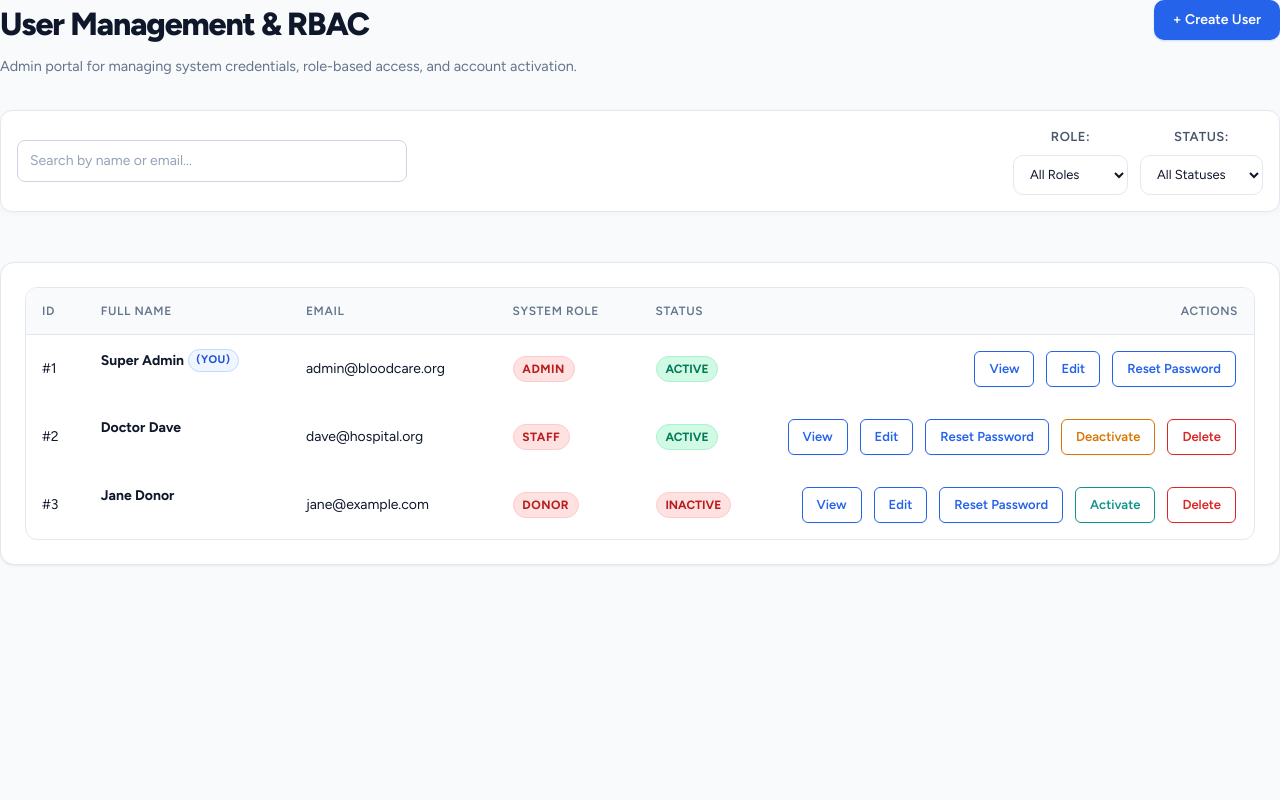
it: Users Page Component › opens and submits Create User form modal
This screenshot has width=1280, height=800.
Click the button with test id "btn-create-user". click: (1217, 20)
box: [1154,0,1279,40]
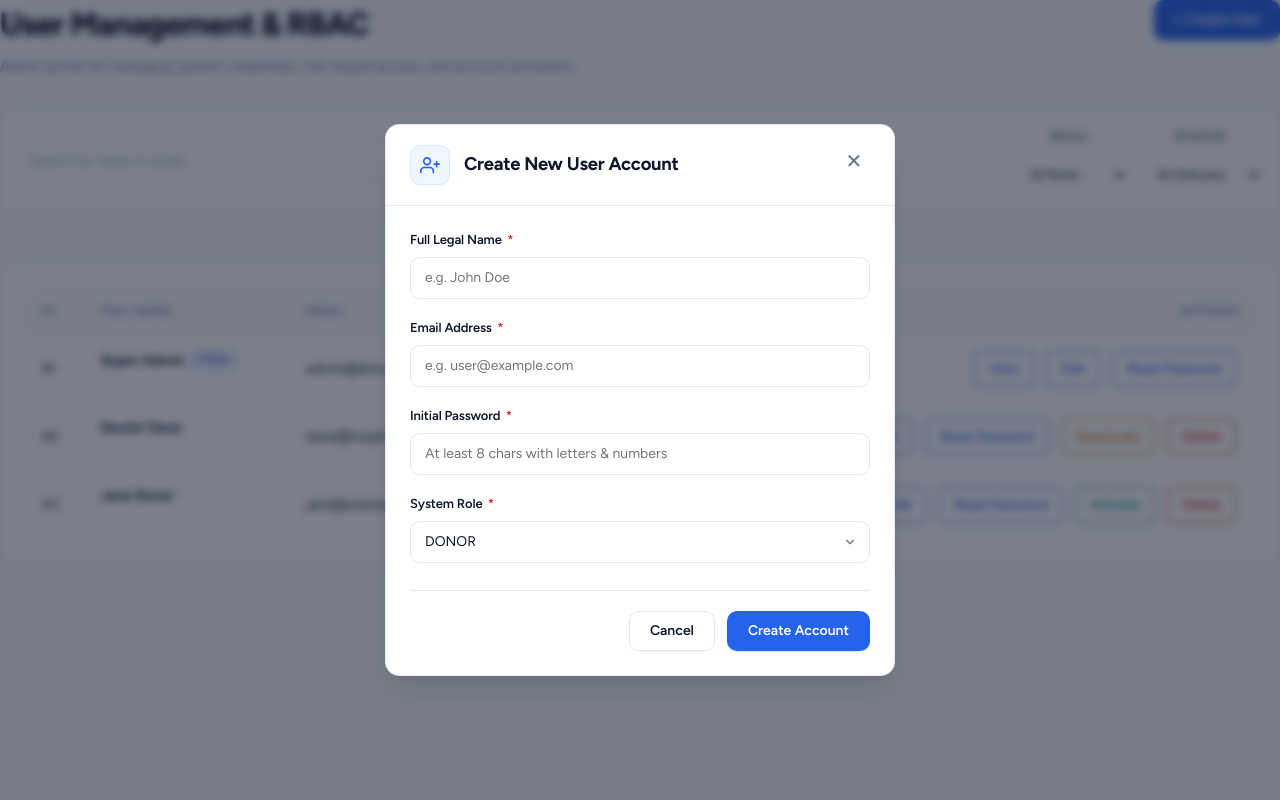
Expected: the dialog with test id "user-form-modal" is shown, [385,124,895,676]
Type "Dr. Sarah Connor" into the field with test id "input-user-fullname". click: (640, 278)
box: [410,257,870,299]
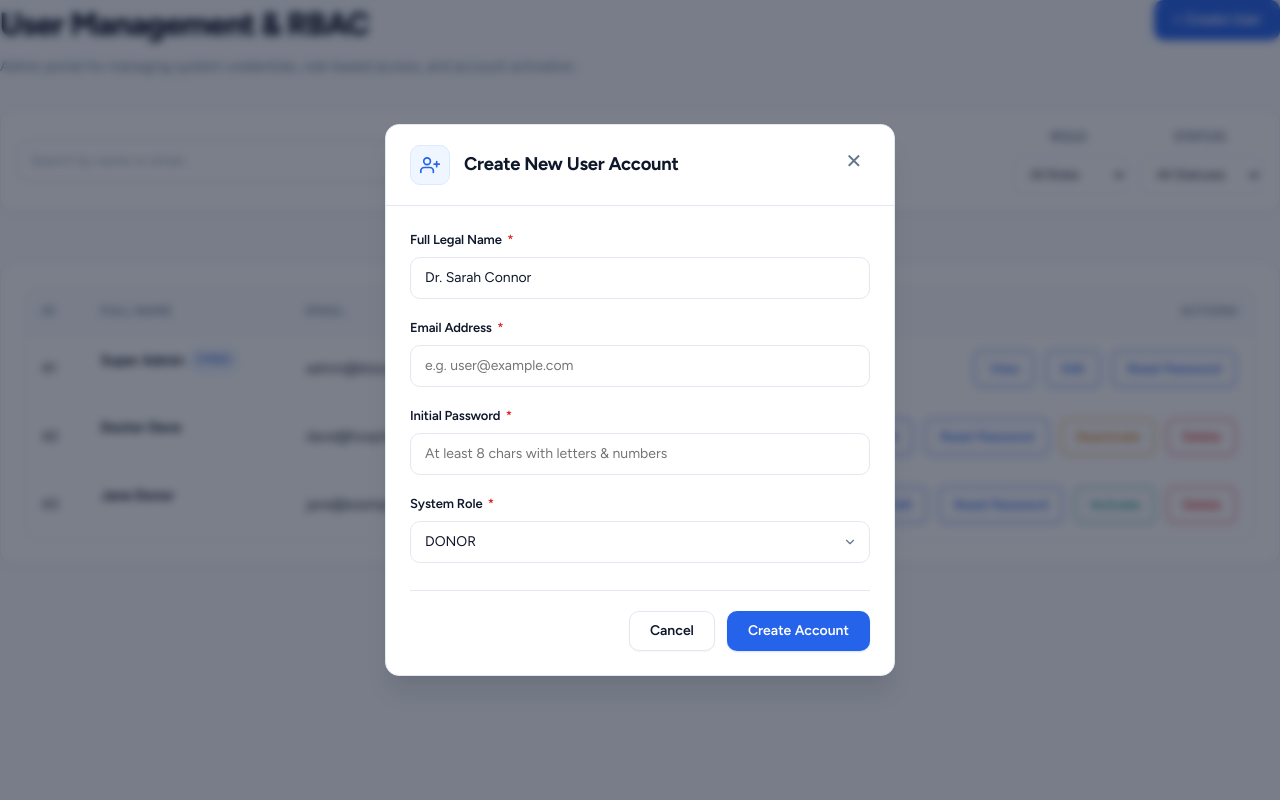
Type "sarah@hospital.org" into the field with test id "input-user-email". click: (640, 366)
box: [410,345,870,387]
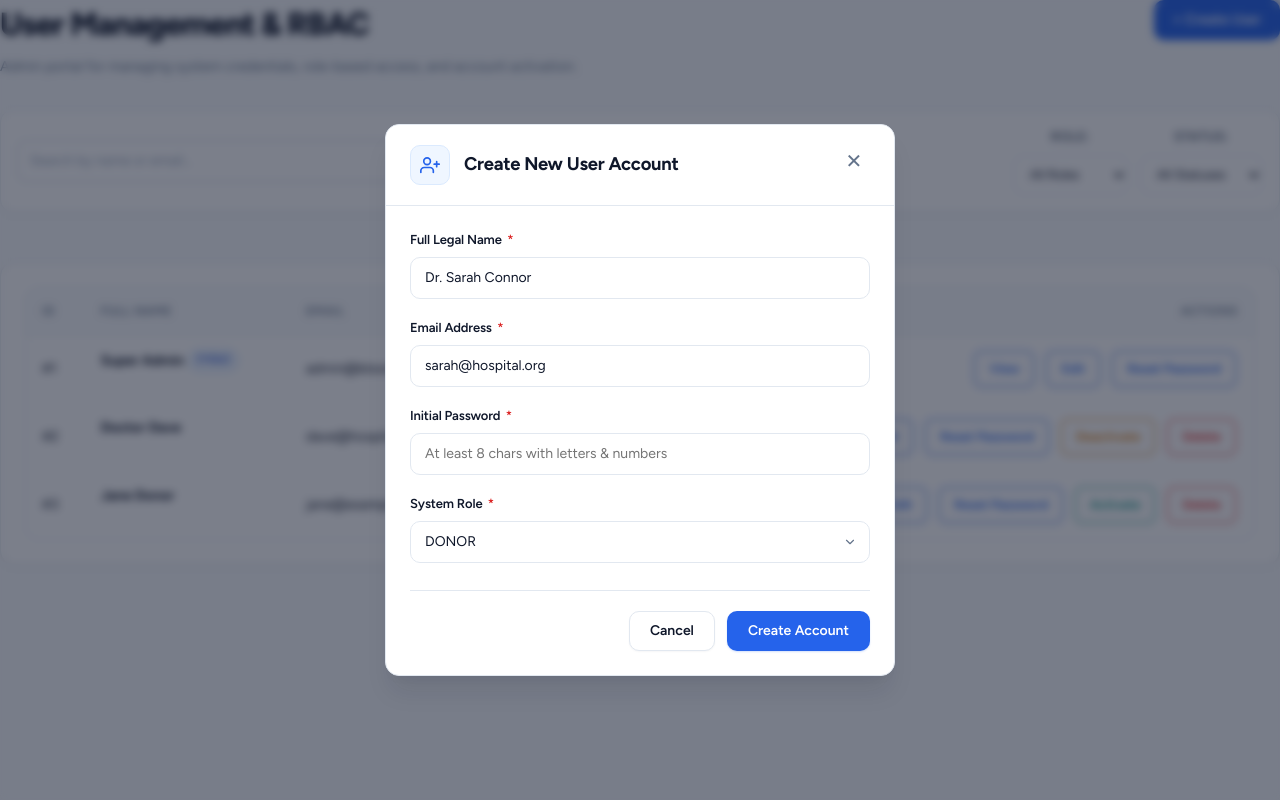
Type "HospitalPass123" into the password field with test id "input-user-password". click: (640, 454)
box: [410,433,870,475]
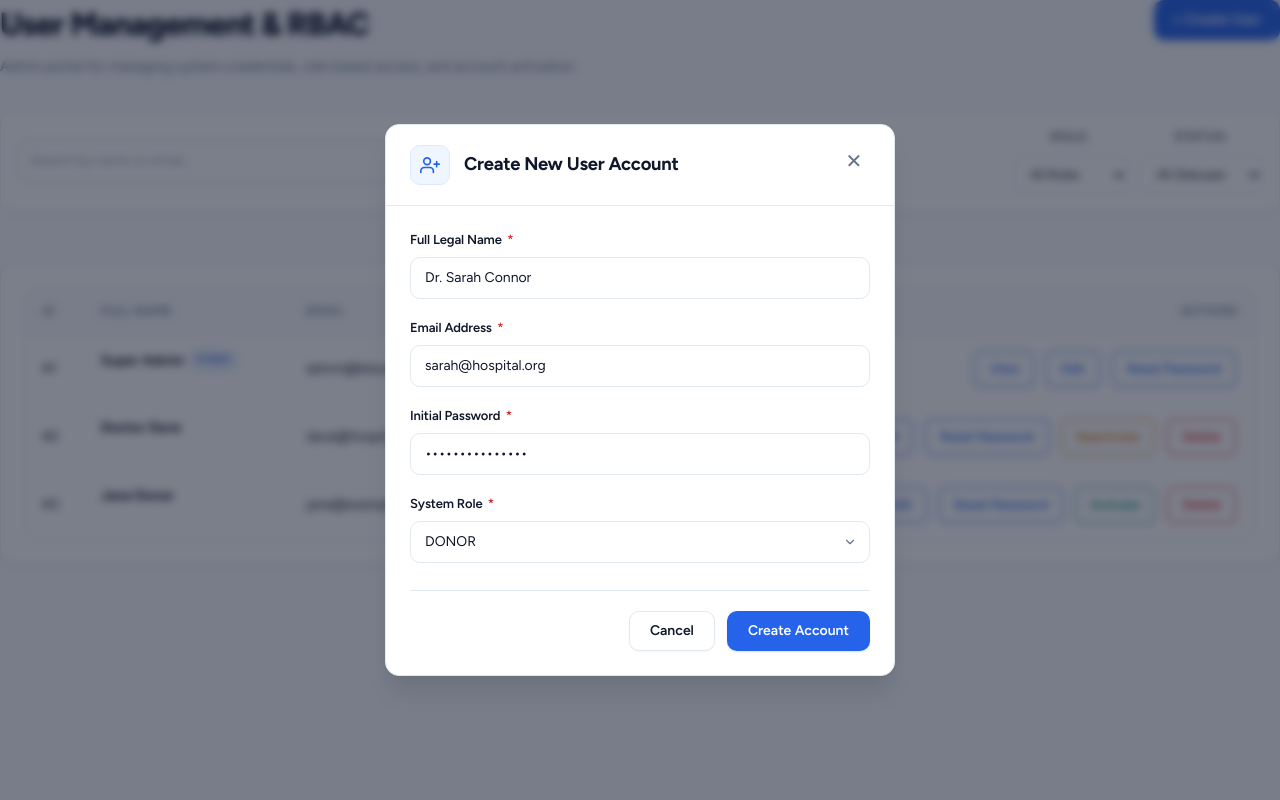
Select "STAFF" in the dropdown with test id "select-user-role". click: (640, 542)
box: [410,521,870,563]
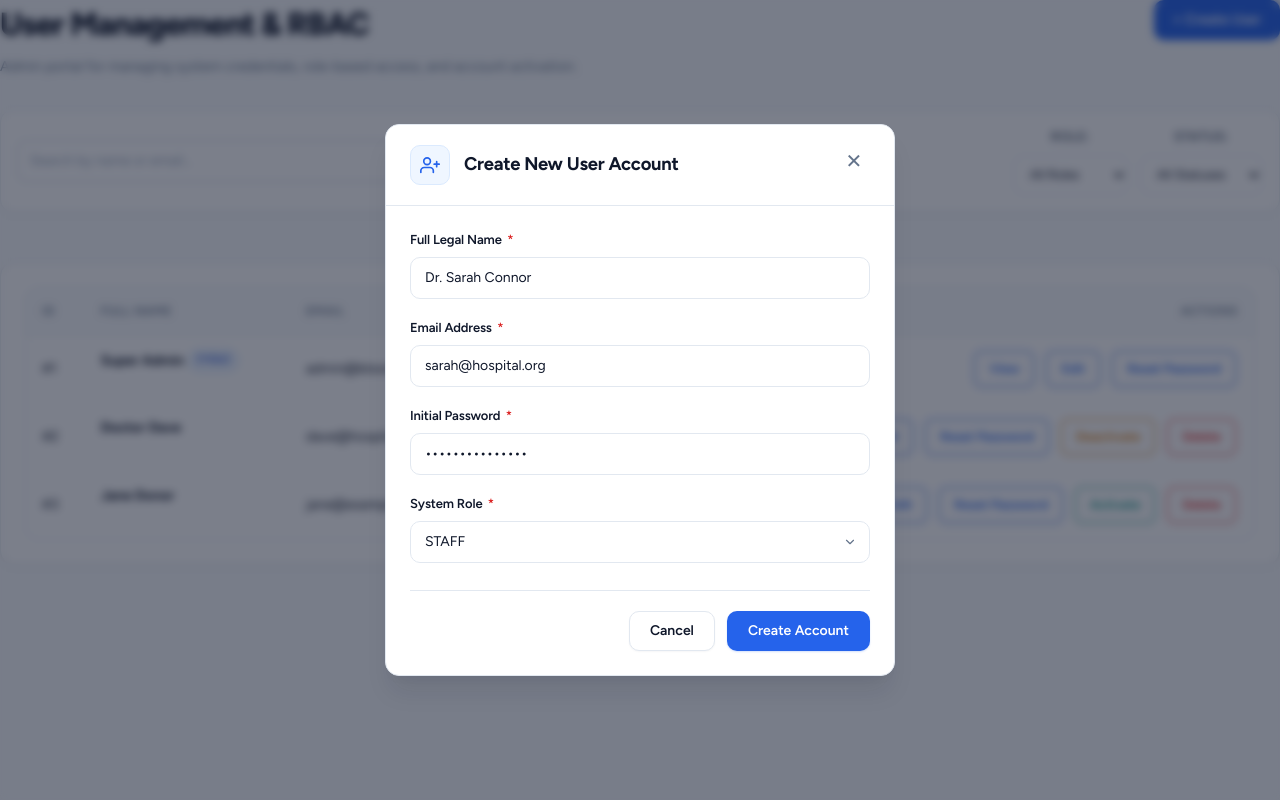
Click the button with test id "btn-submit-user". click: (798, 631)
box: [727,611,870,651]
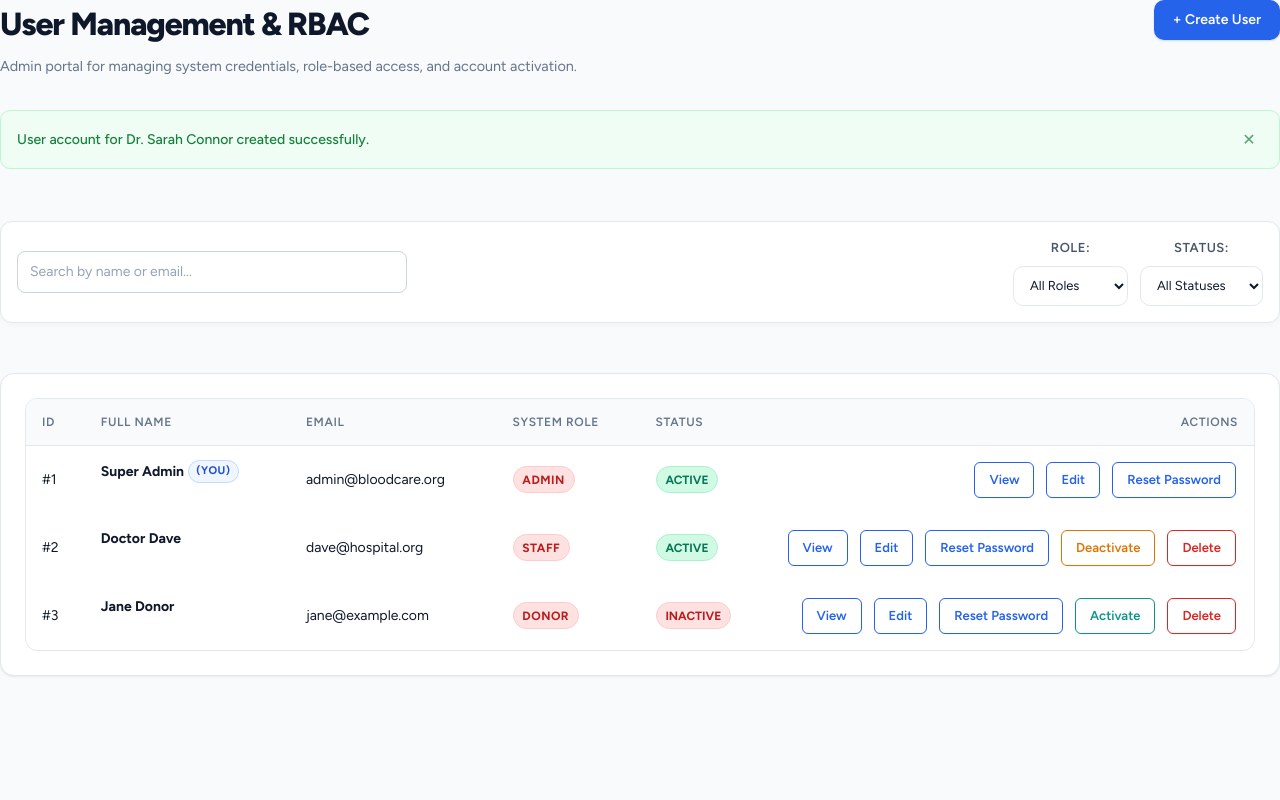
Expected: the element with test id "feedback-banner" shows "User account for Dr. Sarah Connor created successfully", [17,131,369,148]
